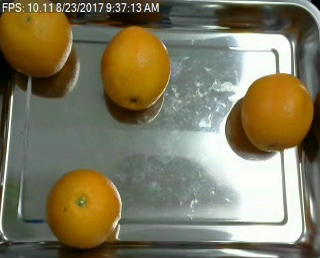Orange: (45, 169, 122, 248), (101, 26, 171, 108), (240, 72, 312, 151), (1, 1, 74, 74)
